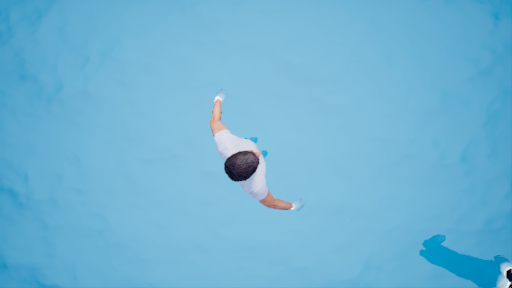person: (204, 88, 299, 222)
